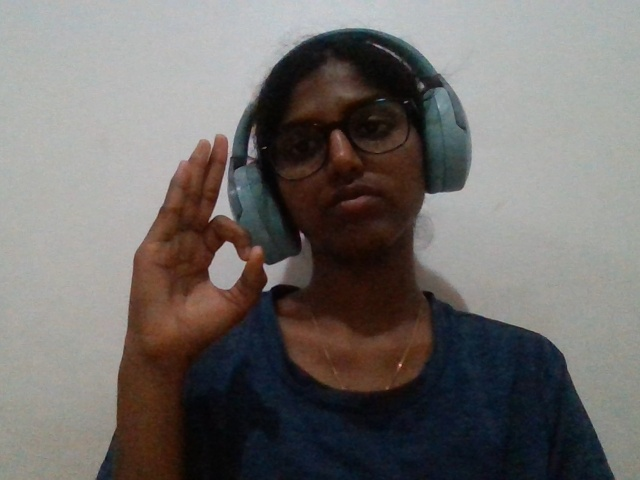F: (93, 120, 313, 479)
